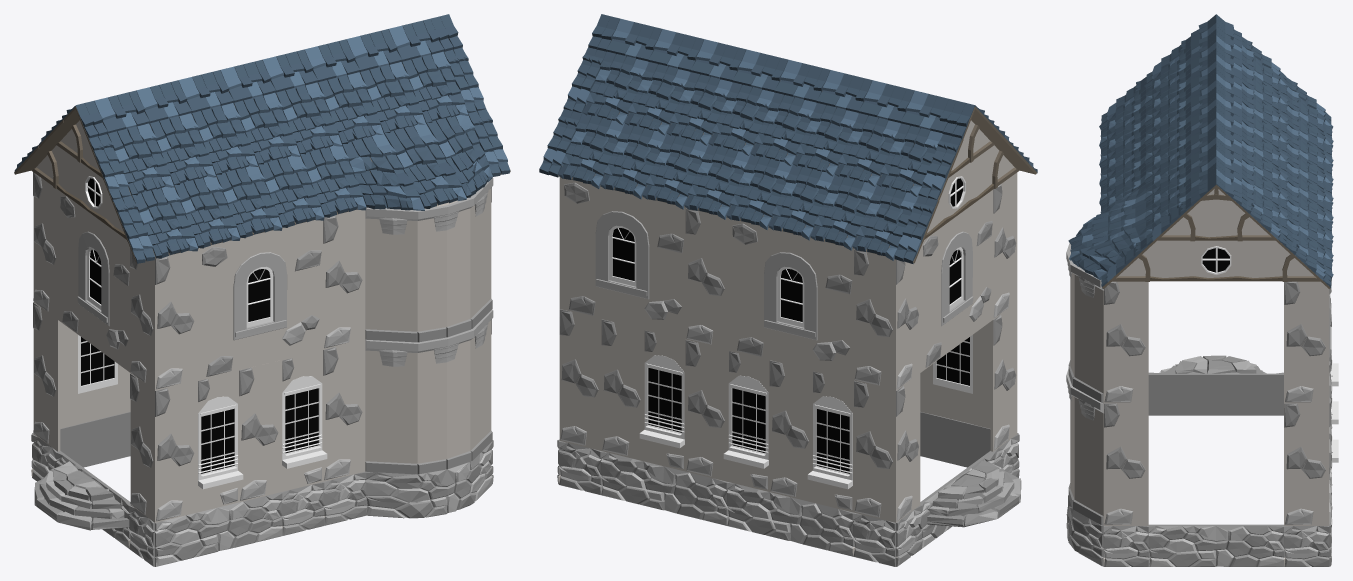
The model's file is HOUSE_19_PARTS.fbx.
The picture shows the model from 3 angles, left to right: view 1: azimuth 30°, elevation 25°; view 2: azimuth 150°, elevation 25°; view 3: azimuth 270°, elevation 25°; orthographic projection. The views are drawn at different scales.
Visible parts, largest first — view 1: BALKON_01_3, BALKON_01_2, WINDOW_07_3, ROOF_base_round_2, WINDOW_07_4, WINDOW_01_3, FOUNDATION_01_3, WALL_03_7, WALL_03_6, FOUNDATION_02_2, WINDOW_01_2, WALL_03_4 (+48 smaller); view 2: WINDOW_07_5, WINDOW_07_6, WINDOW_07_4, WINDOW_01_6, WINDOW_01_5, FOUNDATION_01_5, WALL_03_19, FOUNDATION_01_4, WALL_03_15, WALL_03_14, WALL_03_18, WINDOW_01_4 (+52 smaller); view 3: FOUNDATION_01_2, FOUNDATION_01_6, WALL_03_23, WALL_03_22, WALL_03_21, WALL_03_20, BALKON_01_3, BALKON_01_2, ROOF_base_round_2, ROOF_TRIANGLE_WINDOW_ROUND_3, FOUNDATION_03_5, FOUNDATION_03_4 (+58 smaller).
Boxes of the visible parts, x1,y1,x2,y2 form: BALKON_01_3: (365,178,493,342); BALKON_01_2: (365,309,493,474); WINDOW_07_3: (197,220,323,380); ROOF_base_round_2: (342,115,492,210); WINDOW_07_4: (58,190,130,372); WINDOW_01_3: (281,350,327,491); FOUNDATION_01_3: (154,492,282,566); WALL_03_7: (323,209,365,349); WALL_03_6: (323,339,365,481); FOUNDATION_02_2: (365,441,492,518); WINDOW_01_2: (197,370,243,512); WALL_03_4: (155,380,196,522); WINDOW_07_5: (727,218,853,380); WINDOW_07_6: (559,177,685,339); WINDOW_07_4: (920,190,992,372); WINDOW_01_6: (639,329,685,471); WINDOW_01_5: (723,350,769,491); FOUNDATION_01_5: (600,451,727,525); WALL_03_19: (559,309,601,450); FOUNDATION_01_4: (726,482,854,556); WALL_03_15: (685,208,727,349); WALL_03_14: (685,339,727,481); WALL_03_18: (601,319,643,461); WINDOW_01_4: (807,370,853,512); FOUNDATION_01_2: (1148,372,1283,415); FOUNDATION_01_6: (1148,524,1283,566); WALL_03_23: (1103,403,1148,525); WALL_03_22: (1103,281,1148,403); WALL_03_21: (1284,281,1329,403); WALL_03_20: (1284,403,1329,525); BALKON_01_3: (1066,243,1103,403); BALKON_01_2: (1066,369,1103,525); ROOF_base_round_2: (1068,182,1146,280); ROOF_TRIANGLE_WINDOW_ROUND_3: (1194,240,1238,281); FOUNDATION_03_5: (1284,526,1329,566); FOUNDATION_03_4: (1103,526,1148,566).
Size of the model in its own units: 965 by 959 by 603.
